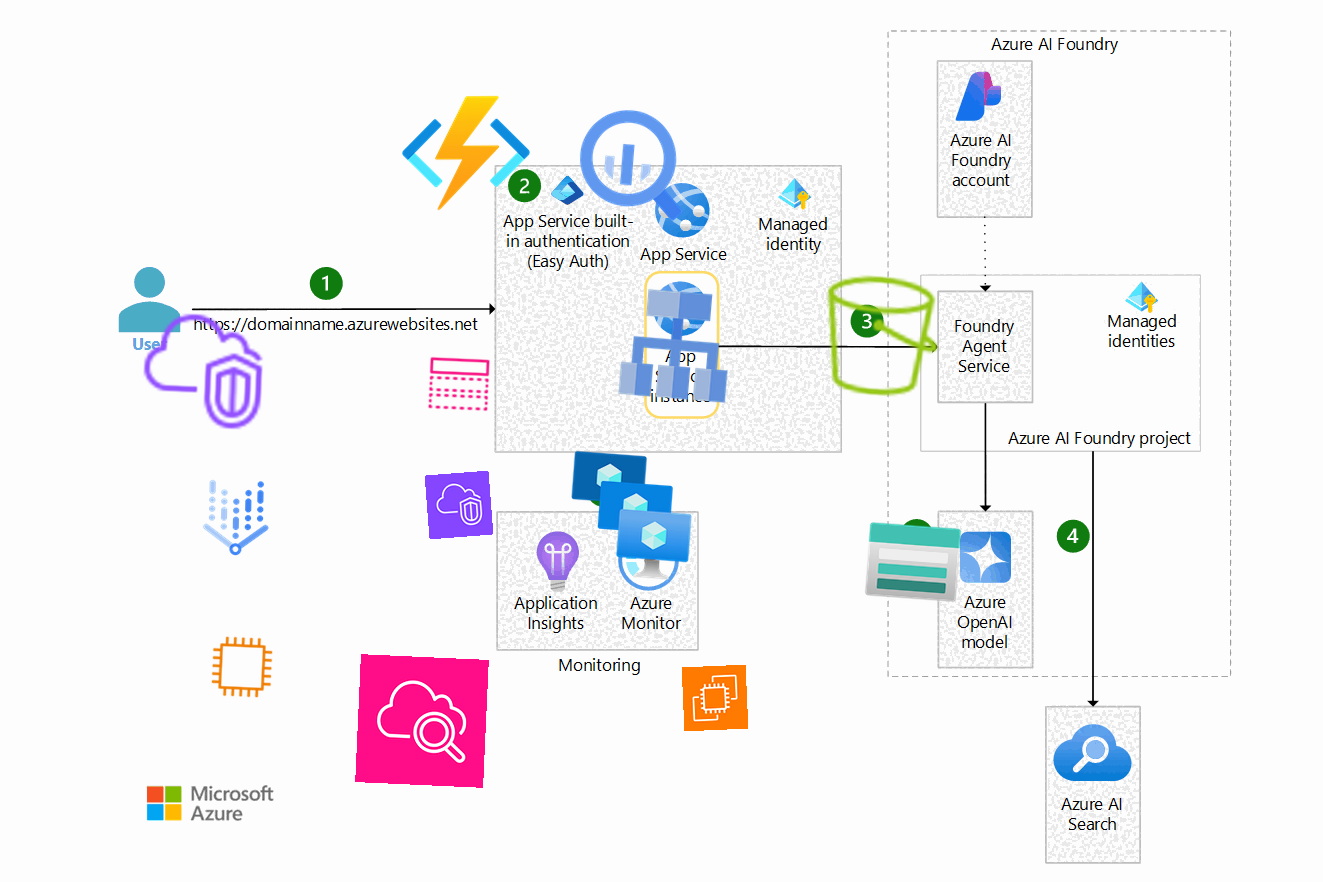aws_amazon_cloudwatch: (355, 654, 489, 788)
aws_amazon_ec2: (681, 664, 749, 732)
aws_amazon_virtual_private_cloud: (424, 470, 494, 540)
aws_ec2_instance: (208, 633, 276, 701)
aws_simple_notification_service_topic: (425, 350, 493, 418)
aws_simple_storage_service_bucket: (811, 266, 951, 406)
aws_vpc_virtual_private_cloud_vpc: (136, 304, 270, 438)
azure_function_apps: (401, 88, 531, 218)
azure_storage_accounts: (861, 510, 965, 614)
azure_vm_scale_sets: (560, 444, 698, 582)
gcp_bigquery: (564, 95, 702, 233)
gcp_cloud_load_balancing: (606, 275, 746, 415)
gcp_vertex_ai: (187, 469, 285, 567)
